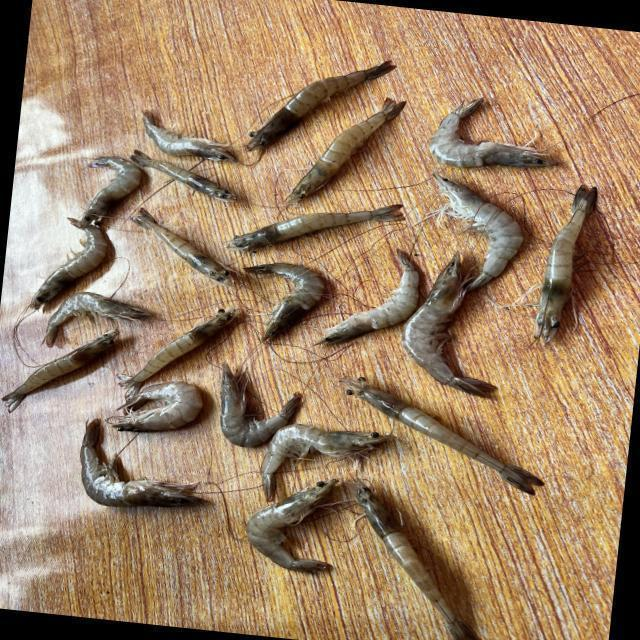shrimp: (340, 377, 543, 495), (346, 480, 478, 640), (245, 59, 395, 150), (402, 252, 496, 397), (284, 97, 405, 203), (79, 419, 203, 507), (117, 308, 238, 397), (433, 172, 523, 290), (260, 424, 395, 501), (534, 184, 598, 345), (0, 330, 118, 413), (315, 250, 419, 344), (429, 96, 557, 166), (245, 479, 338, 573), (226, 203, 404, 250), (129, 208, 233, 286), (28, 217, 106, 308), (219, 363, 301, 448), (242, 262, 324, 341), (39, 291, 150, 347), (129, 149, 235, 201), (105, 381, 201, 431), (141, 110, 235, 160), (79, 156, 141, 228)
